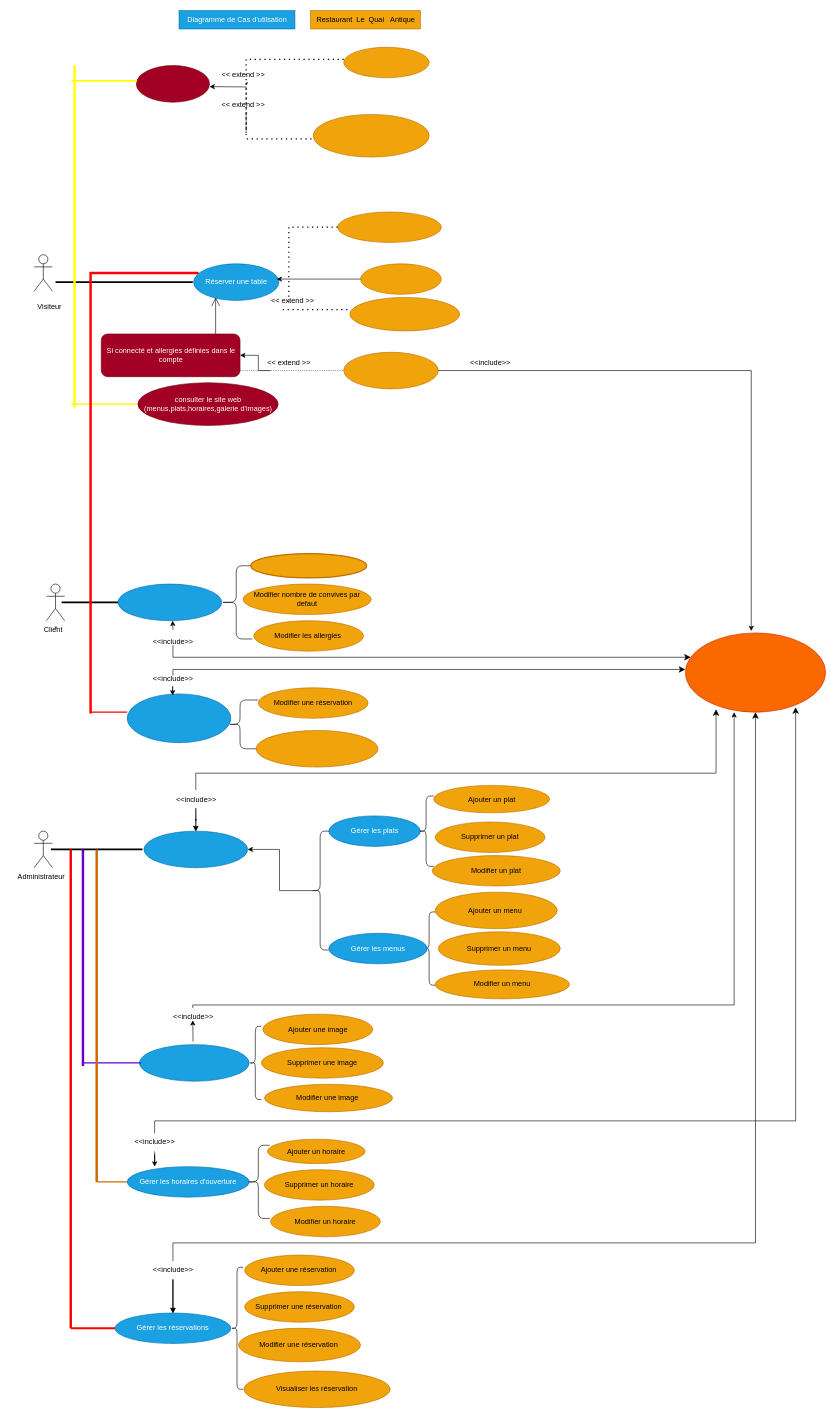
Image size: 836x1418. Some labels were removed from this diagram. Each missing label, with the centre of its shape:
Annuler une réservation: the point at 316,748
Créer un compte: the point at 173,83
Déclarer des allergies: the point at 404,314
Déclarer les allergies par défaut: the point at 390,370
Définir le créneau horaire: the point at 400,278
Définir le nombre de convives: the point at 389,226
Définir les allergies: the point at 386,62
Définir nombres de convives par défaut: the point at 371,135
Gerer son compte: the point at 169,602
Gérer la carte: the point at 195,849
Gérer la galerie d'image: the point at 194,1062
Se Connecter: the point at 755,672
Se deconnecter: the point at 308,565
Voir ses réservation: the point at 179,718
